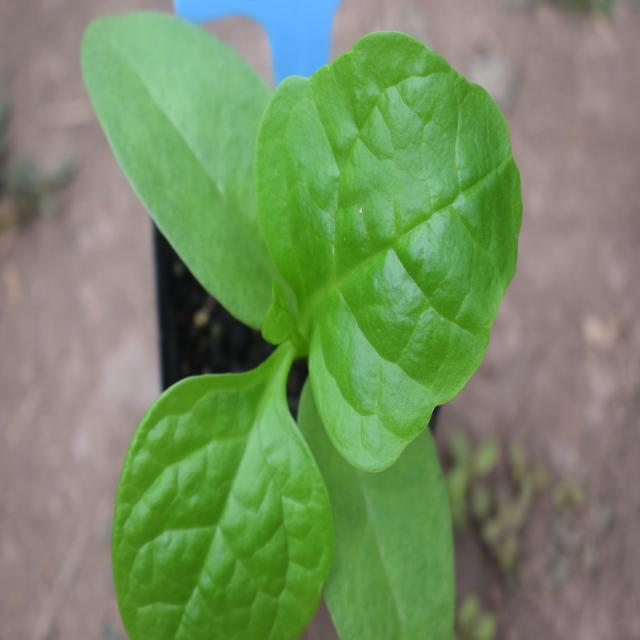Ceylon spinach: (88, 22, 514, 610)
